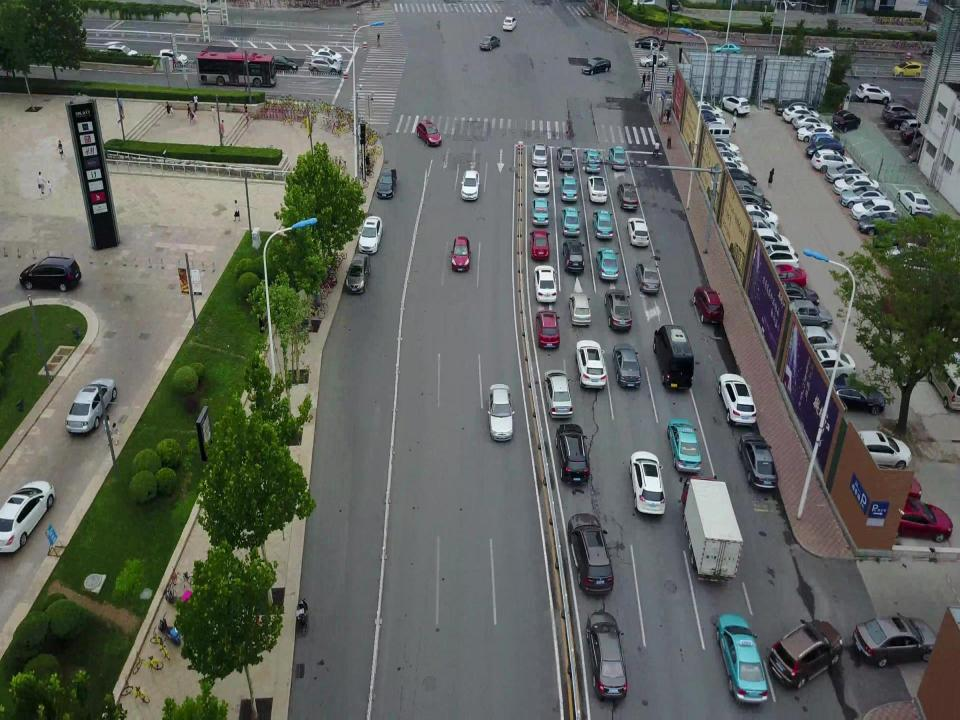bus: (196, 51, 277, 87)
car: (771, 619, 843, 689), (716, 614, 768, 704), (853, 613, 939, 667), (0, 480, 56, 554), (586, 611, 628, 698), (568, 513, 614, 592), (881, 495, 953, 542), (66, 377, 117, 435), (842, 431, 912, 469), (854, 463, 922, 502), (819, 376, 886, 415), (628, 450, 666, 514), (18, 256, 82, 291), (738, 433, 778, 489), (717, 373, 757, 424), (555, 424, 589, 483), (666, 418, 702, 473), (802, 349, 856, 379), (781, 299, 833, 329), (488, 384, 515, 441), (543, 369, 573, 418), (576, 340, 606, 389), (790, 325, 838, 354), (859, 211, 911, 236), (772, 281, 820, 308), (693, 285, 725, 324), (613, 344, 641, 388), (755, 245, 799, 272), (749, 227, 791, 255), (604, 289, 632, 330), (851, 198, 897, 221), (841, 186, 887, 209), (812, 148, 854, 172), (765, 266, 807, 290), (534, 310, 560, 348), (346, 253, 370, 294), (884, 241, 926, 264), (825, 163, 869, 184), (729, 191, 771, 213), (833, 175, 879, 195), (359, 216, 383, 254), (740, 204, 778, 228), (534, 265, 558, 303), (743, 216, 779, 240), (897, 190, 930, 216), (568, 292, 592, 326), (98, 44, 138, 64), (635, 261, 660, 293), (728, 179, 764, 201), (713, 155, 749, 177), (806, 138, 844, 158), (856, 83, 892, 104), (563, 238, 585, 272), (597, 246, 619, 280), (830, 109, 861, 133), (704, 138, 740, 158), (776, 98, 813, 117), (451, 236, 471, 271), (797, 122, 833, 141), (782, 105, 820, 123), (720, 168, 758, 186), (708, 147, 744, 166), (528, 229, 550, 260), (719, 95, 750, 116), (886, 111, 922, 129), (417, 120, 441, 147), (627, 217, 649, 246), (377, 168, 397, 199), (308, 57, 342, 75), (792, 113, 828, 130), (694, 101, 723, 122), (266, 55, 298, 74), (593, 209, 613, 239), (618, 182, 638, 211), (461, 170, 480, 200), (881, 103, 915, 119), (582, 57, 612, 75), (160, 49, 188, 68), (562, 207, 580, 236), (587, 177, 607, 203), (901, 119, 933, 135), (608, 145, 628, 170), (808, 133, 841, 148), (532, 198, 550, 225), (312, 48, 342, 64), (695, 117, 725, 133), (556, 146, 574, 172), (806, 47, 838, 61), (894, 60, 922, 76), (712, 41, 740, 57), (560, 177, 578, 201), (532, 169, 550, 193), (531, 142, 549, 166), (635, 35, 665, 49), (640, 52, 668, 67), (902, 129, 932, 143), (583, 149, 601, 172), (479, 34, 501, 51), (502, 16, 518, 31), (633, 0, 655, 9), (665, 0, 679, 11)
truck: (679, 476, 743, 581)
van: (653, 323, 694, 390), (927, 358, 960, 412), (701, 123, 731, 145)
